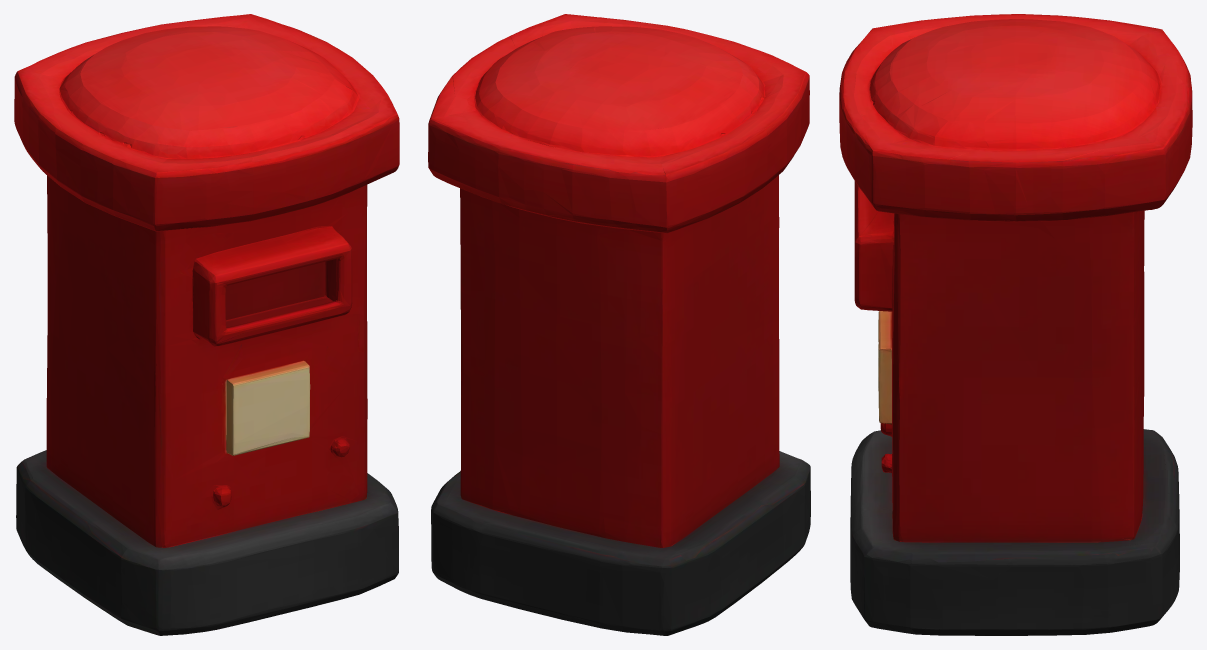
The model's file is red_slotted_box.glb.
3 views of the same model, side by side, from view 1: azimuth 30°, elevation 25°; view 2: azimuth 150°, elevation 25°; view 3: azimuth 270°, elevation 25° (orthographic). The views are drawn at different scales.
Parts seen in each view (by area): view 1: geometry_0; view 2: geometry_0; view 3: geometry_0.
Boxes of the visible parts, left/top/right/bottom form: geometry_0: left=14, top=14, right=399, bottom=635; geometry_0: left=428, top=14, right=810, bottom=635; geometry_0: left=839, top=14, right=1192, bottom=635.
Bounding box in the file's own units: 0.6274 × 0.9998 × 0.6206.
1 material, 1 textured.
